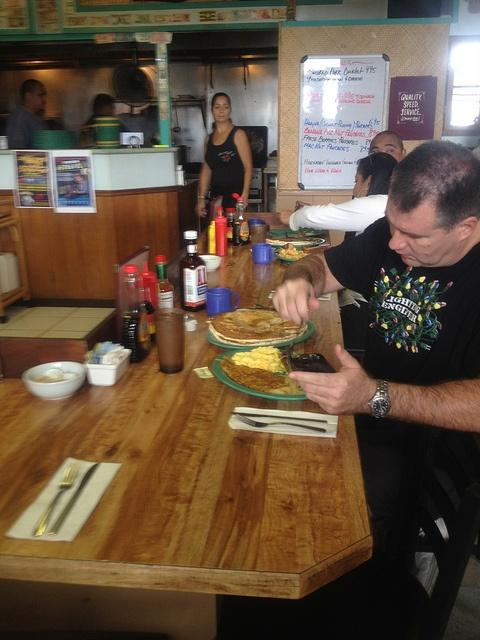Whiteboard: (295, 53, 389, 190)
